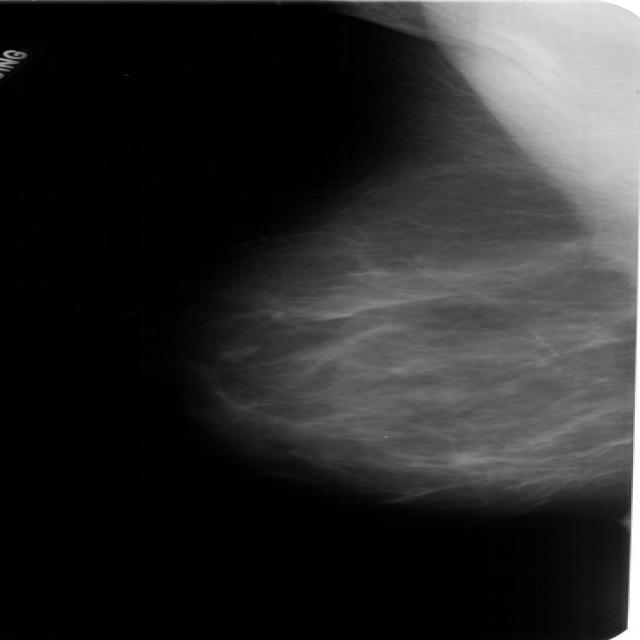tumour: (215, 344, 257, 362)
